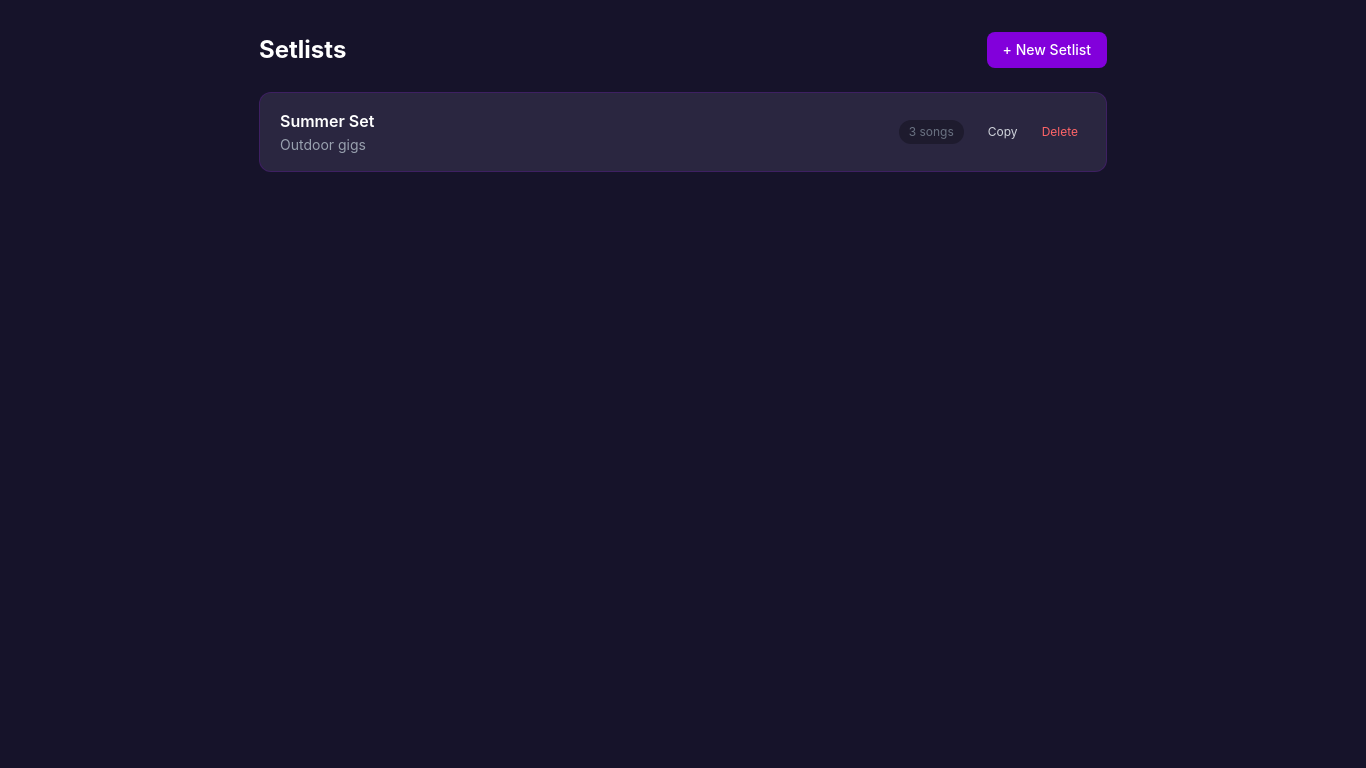
PlaylistListPage copy (#2) › shows a friendly message when copying to a duplicate name (409)
expect the link "Summer Set" is shown: met, box [280,111,374,131]
Click the button "Copy": (1003,132) [980,120,1026,144]
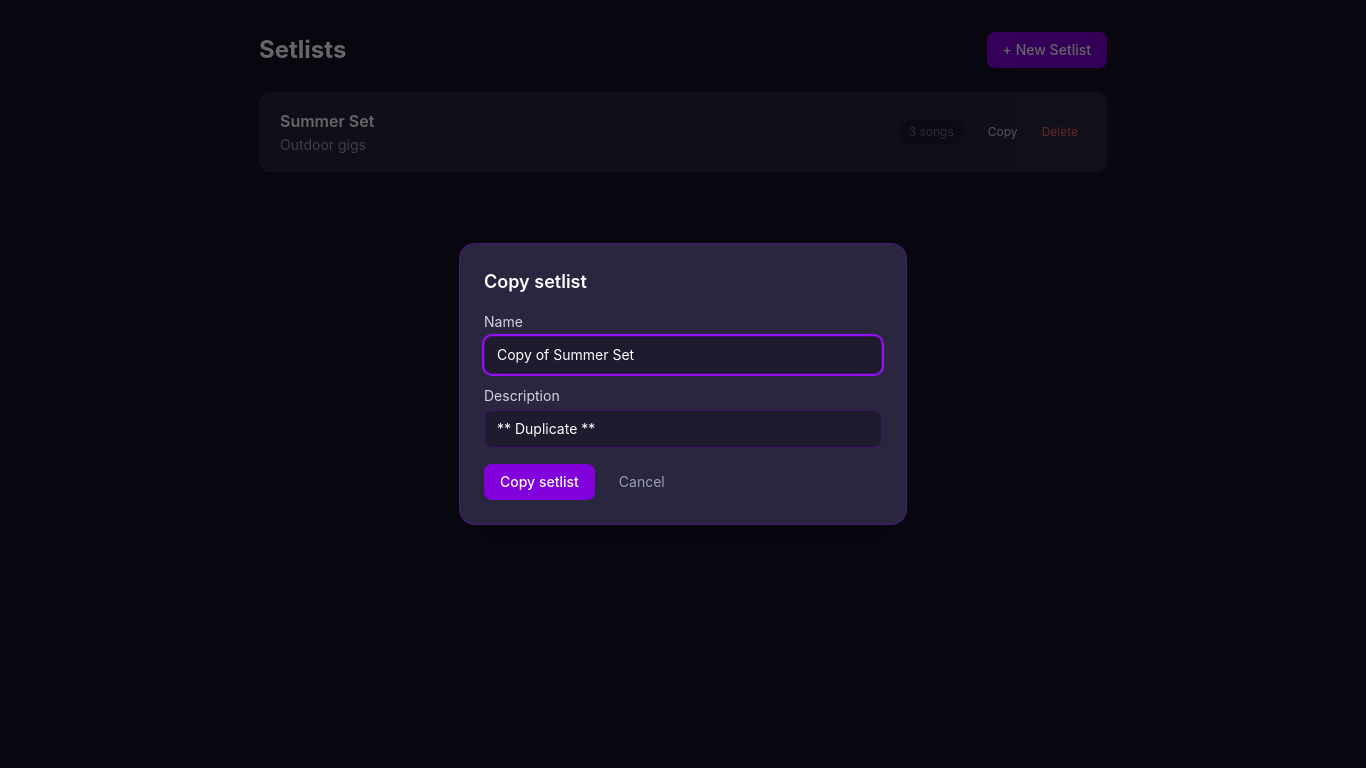
Click the button "Copy setlist": (539,482) [484,464,595,500]
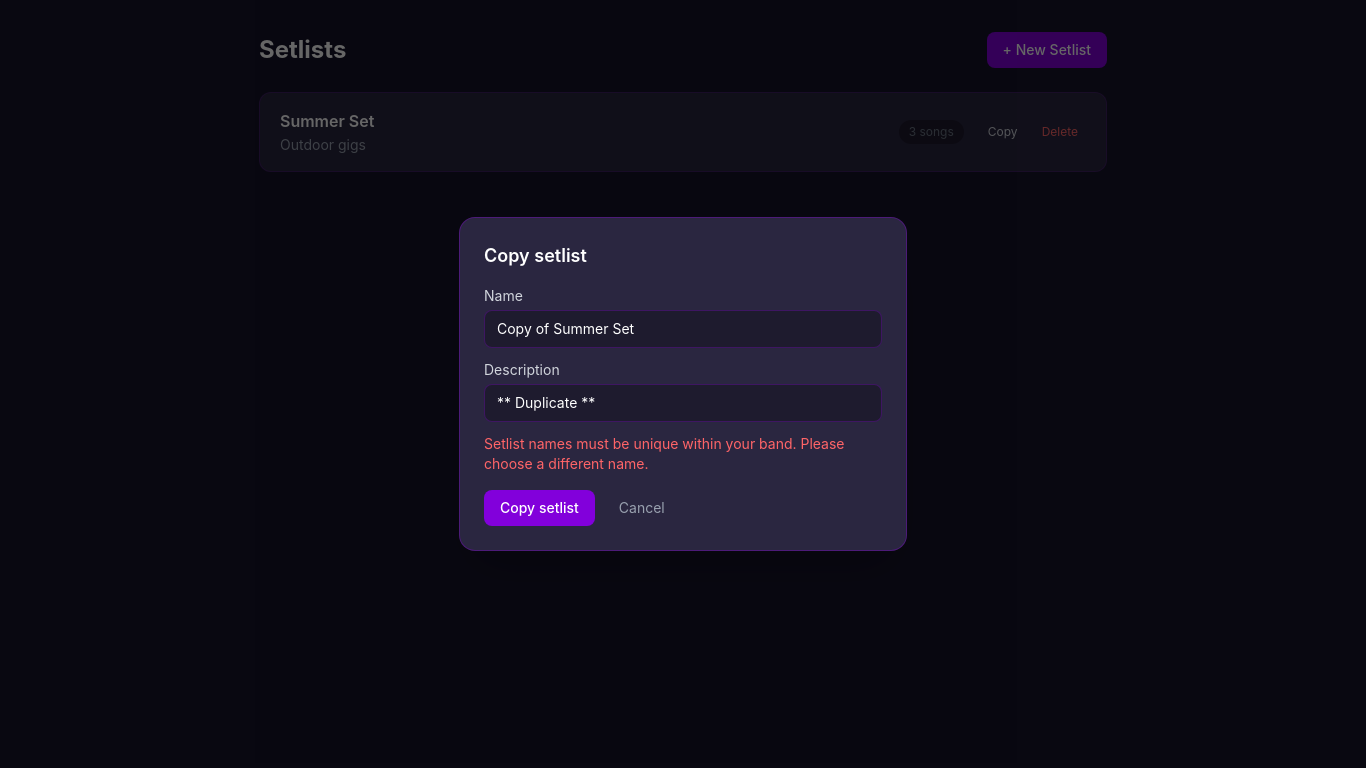
expect the dialog is shown: met, box [459,217,907,551]
expect the text "Setlist names must be unique within your band. Please choose a different name." is shown: met, box [484,434,882,474]
